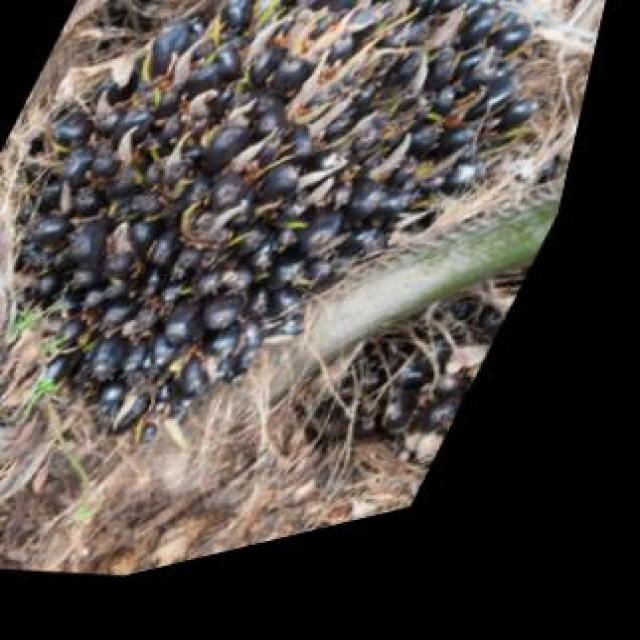Unripe: (0, 0, 634, 573)
